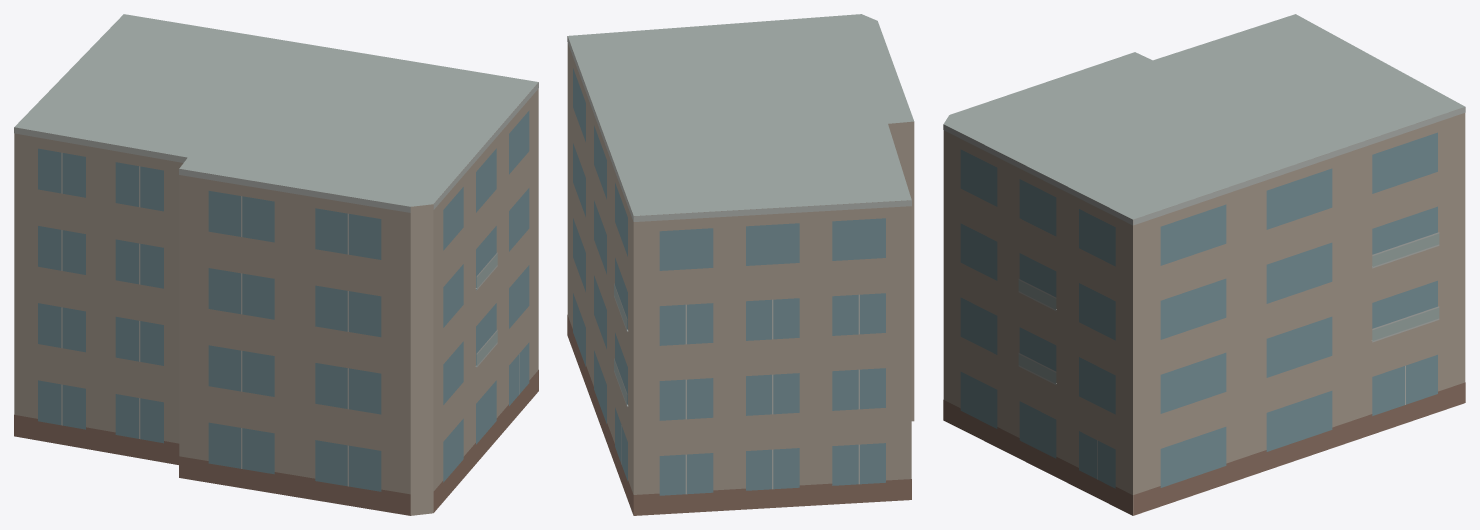
File: survey-upis-32943929.glb
The picture shows the model from 3 angles, left to right: view 1: azimuth 30°, elevation 25°; view 2: azimuth 150°, elevation 25°; view 3: azimuth 270°, elevation 25°; orthographic projection. The views are drawn at different scales.
Visible parts, largest first — view 1: survey-upis-32943929.tmp; view 2: survey-upis-32943929.tmp; view 3: survey-upis-32943929.tmp.
Part boxes in pixels (left/top/right/bottom): survey-upis-32943929.tmp: left=14, top=14, right=538, bottom=515; survey-upis-32943929.tmp: left=567, top=14, right=914, bottom=515; survey-upis-32943929.tmp: left=943, top=14, right=1465, bottom=515.
Bounding box in the file's own units: 18.17 × 12.2 × 19.49.
